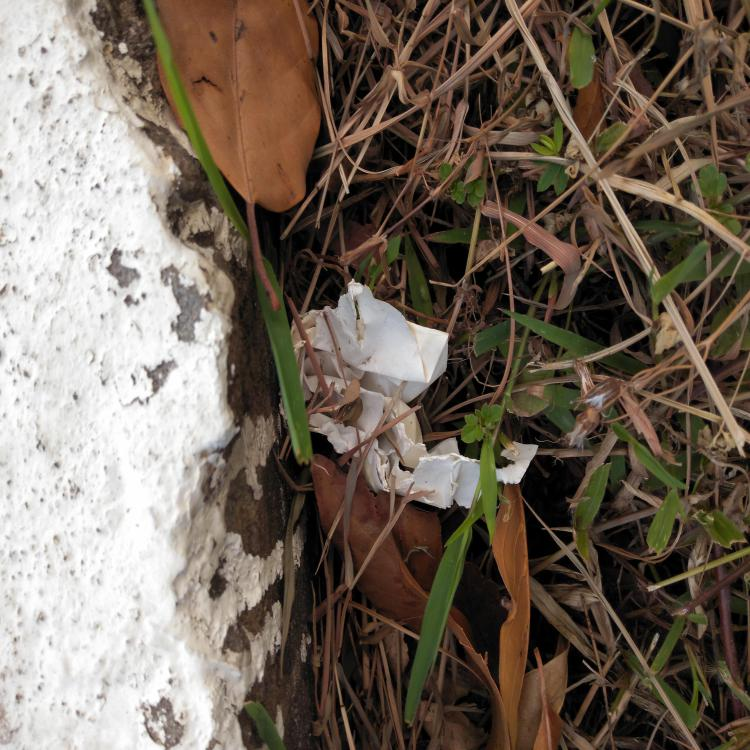Unlabeled litter: (291, 278, 539, 509)
